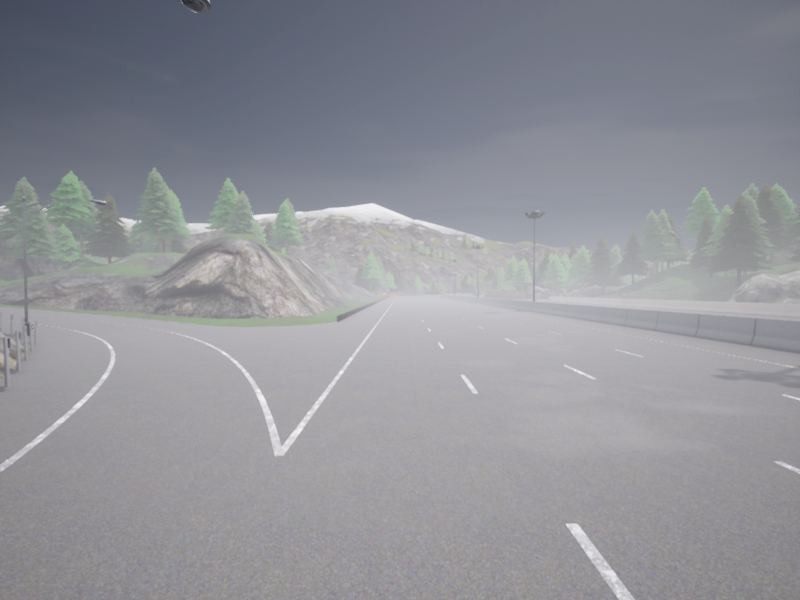vehicle: (474, 291, 478, 295), (478, 293, 482, 295)
